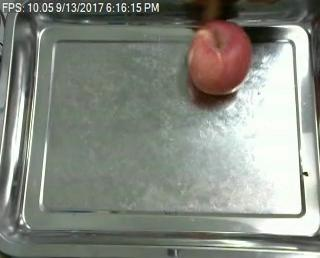apple: (185, 21, 252, 95)
